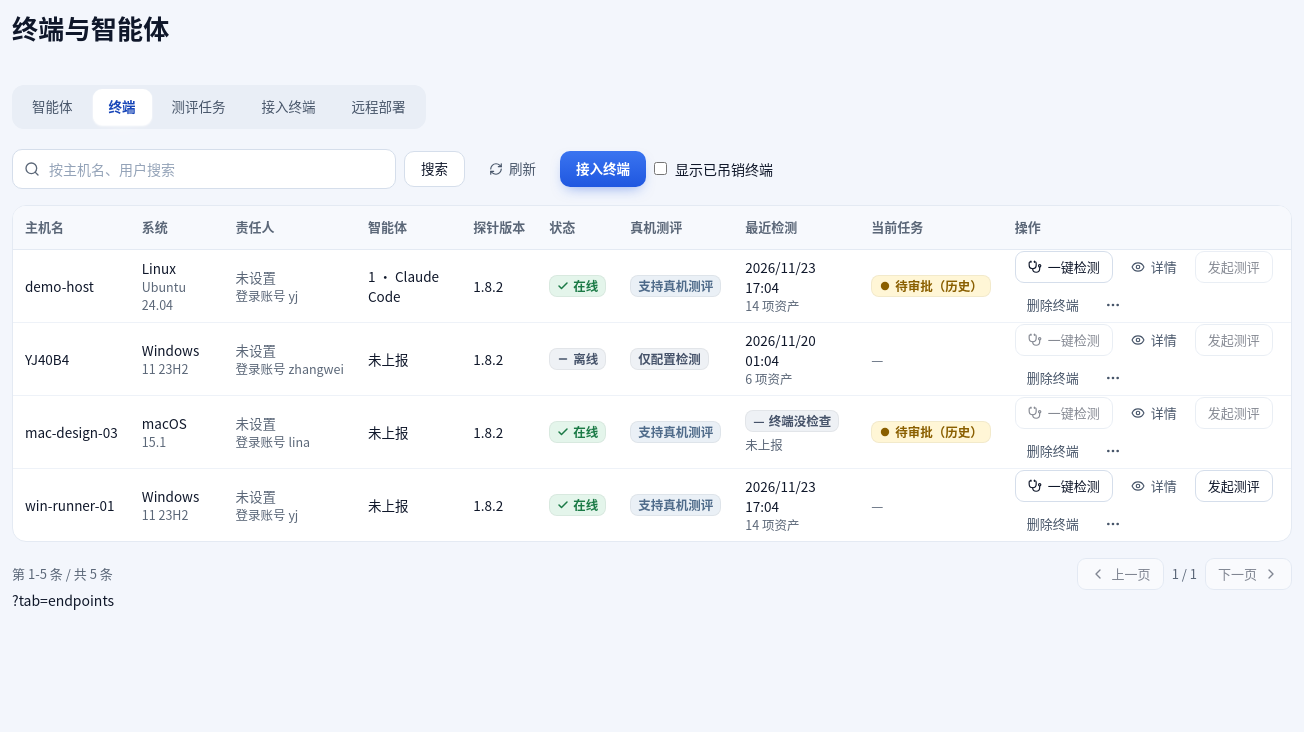
it: 终端清单 › 渲染在线/离线徽章与真机测评能力徽章
Expected: the text "在线" in the row of "demo-host" is shown, [573, 276, 598, 295]
Expected: the text "支持真机测评" in the row of "demo-host" is shown, [638, 276, 713, 295]
Click the checkbox labelled "显示已吊销终端" at (660, 168), box [654, 162, 667, 175]
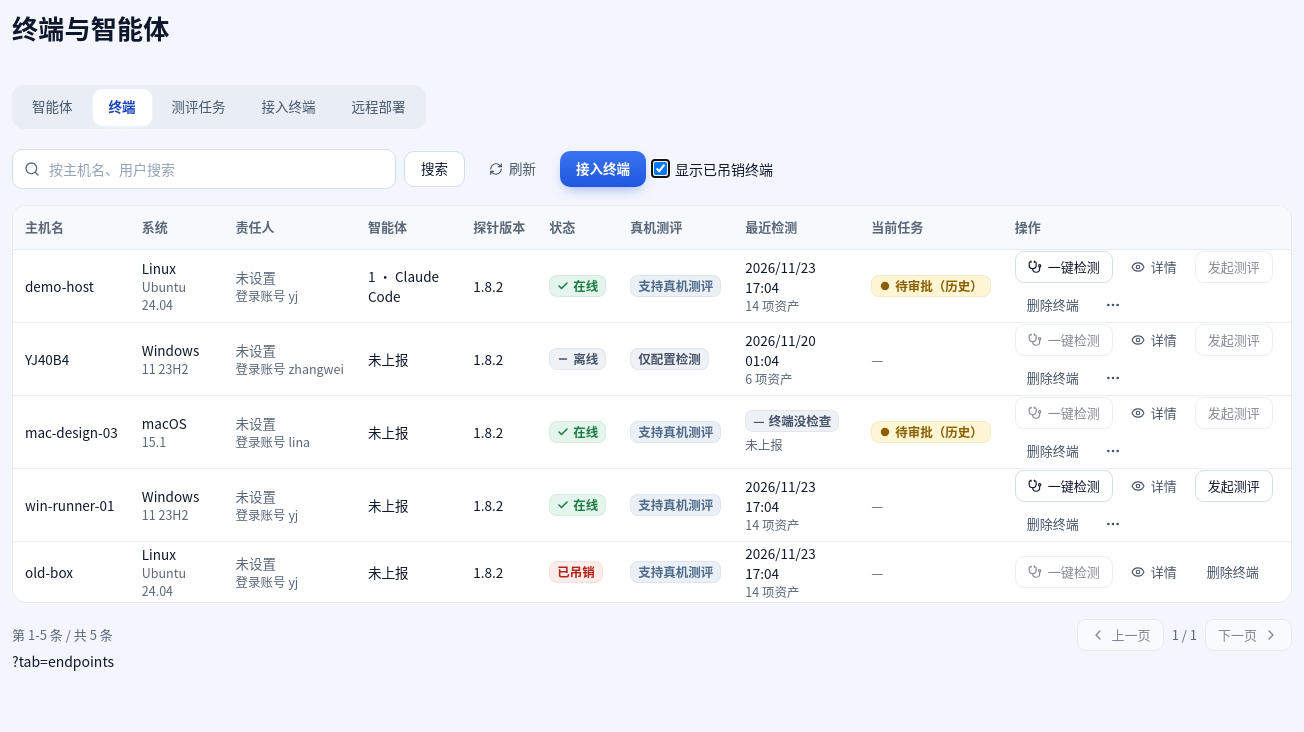
Expected: the column heading "智能体" is shown, [356, 206, 461, 250]
Result: the text "已吊销" is shown at [549, 561, 603, 583]
